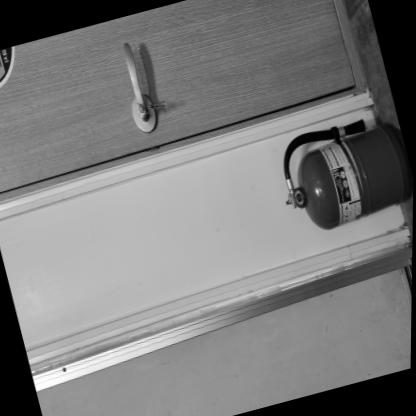FE: (272, 111, 415, 239)
